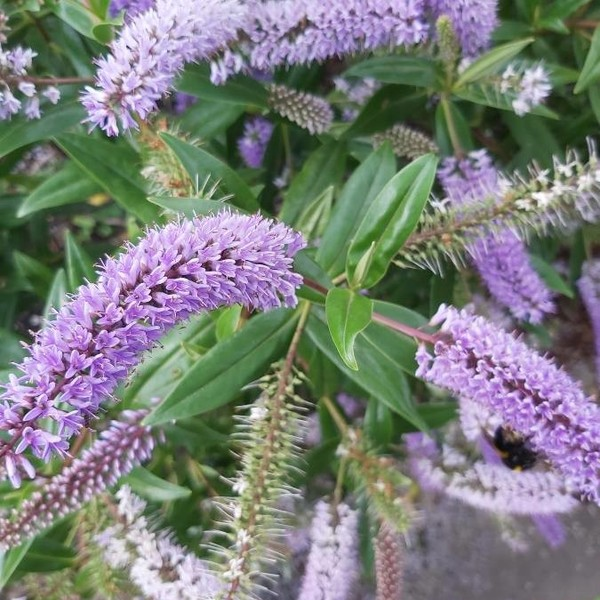obstacle: (94, 55, 510, 549)
